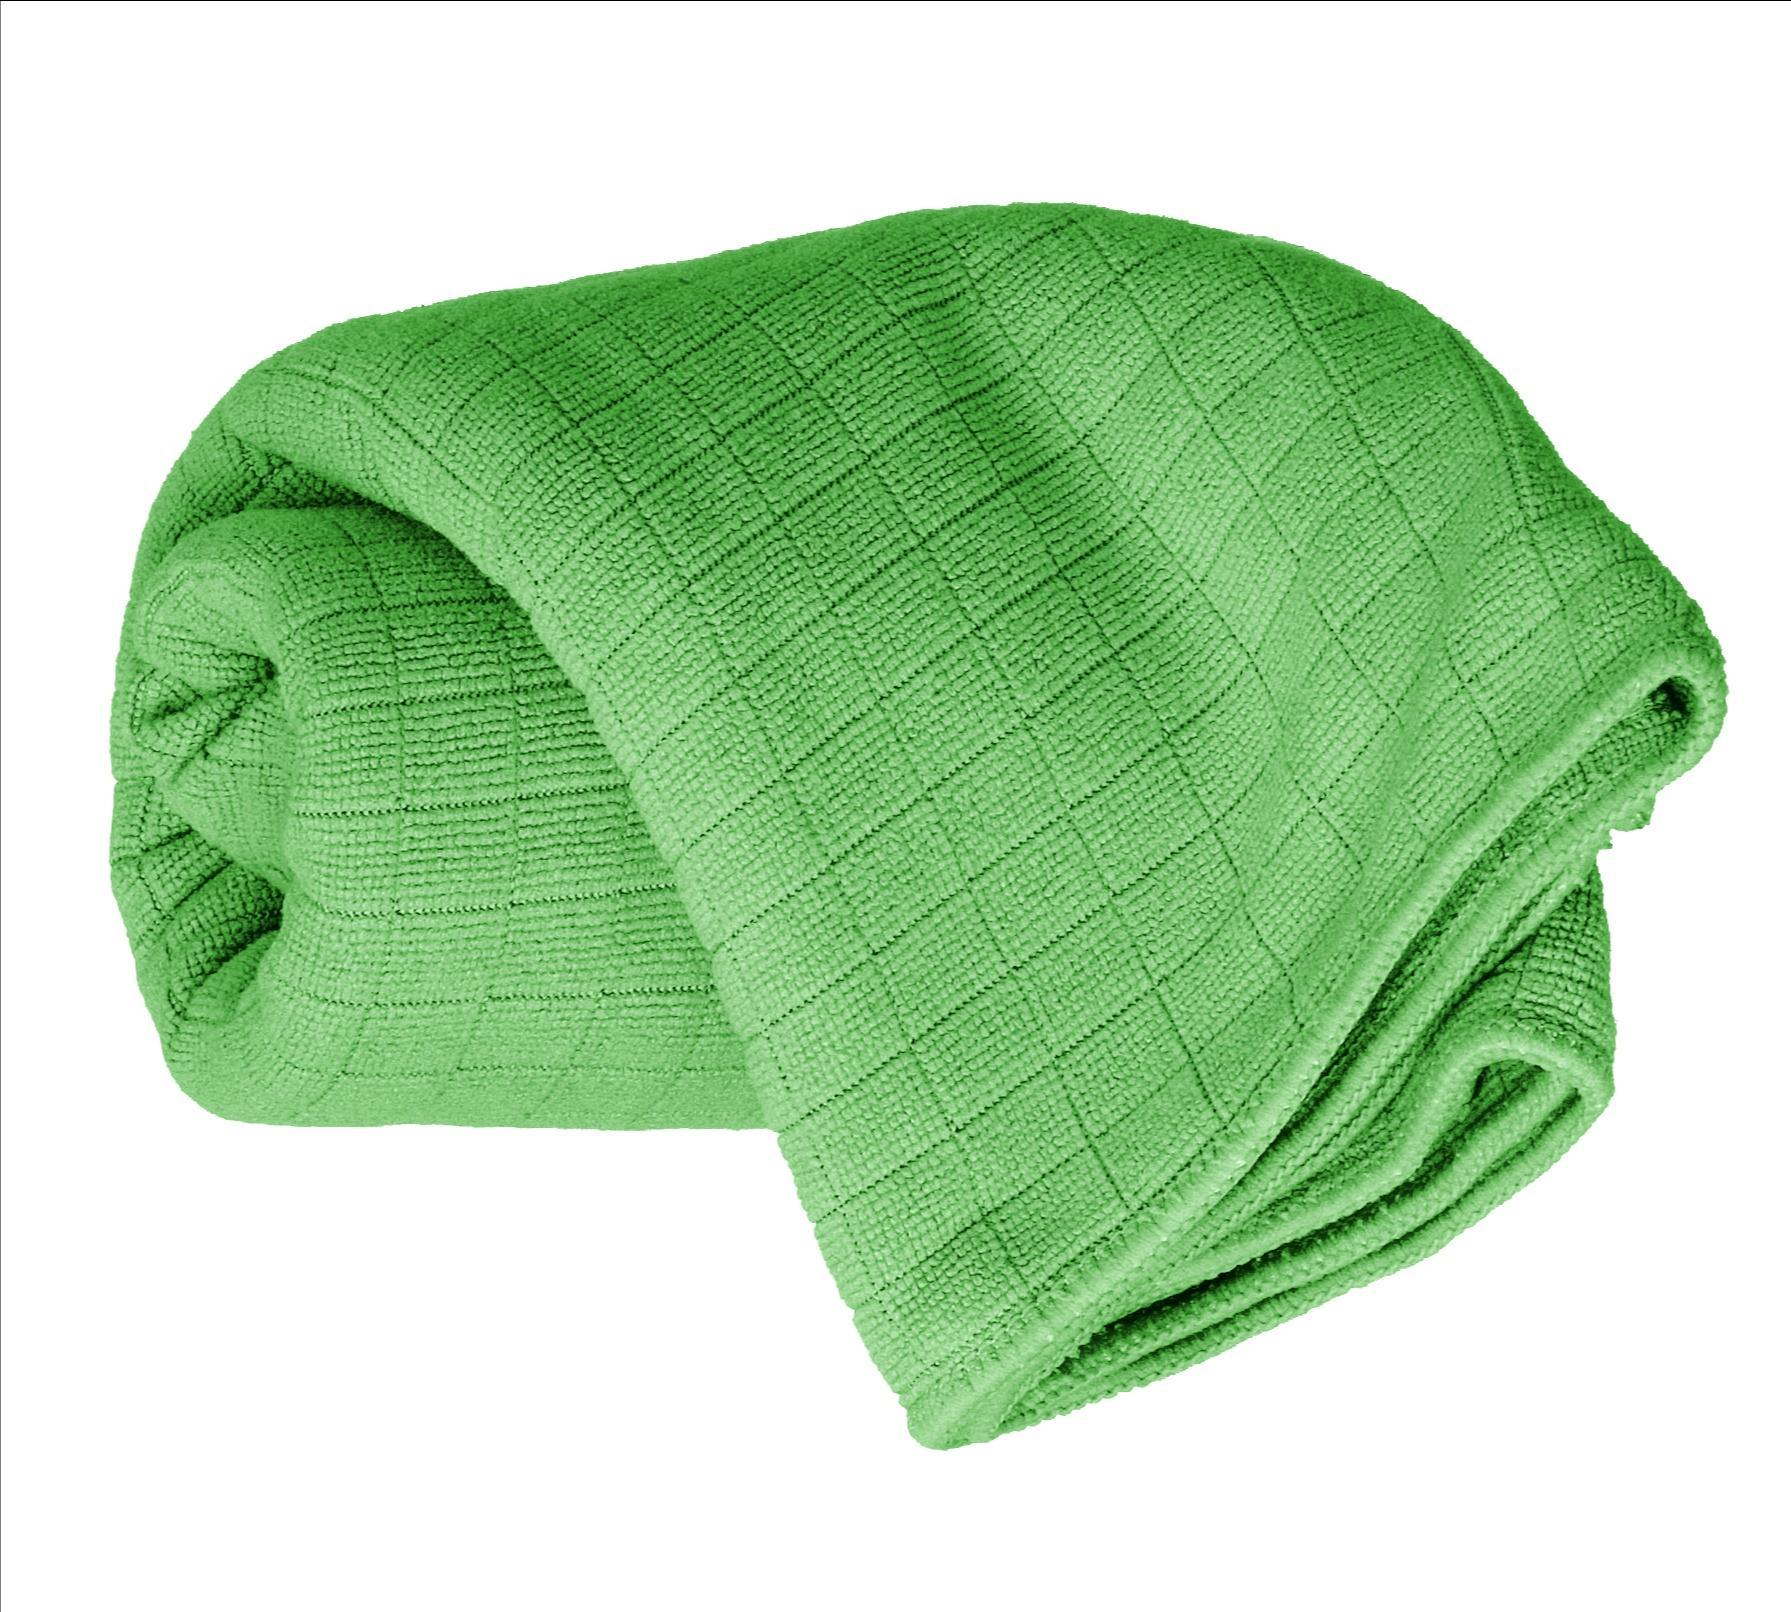towel: (37, 79, 1740, 1480)
